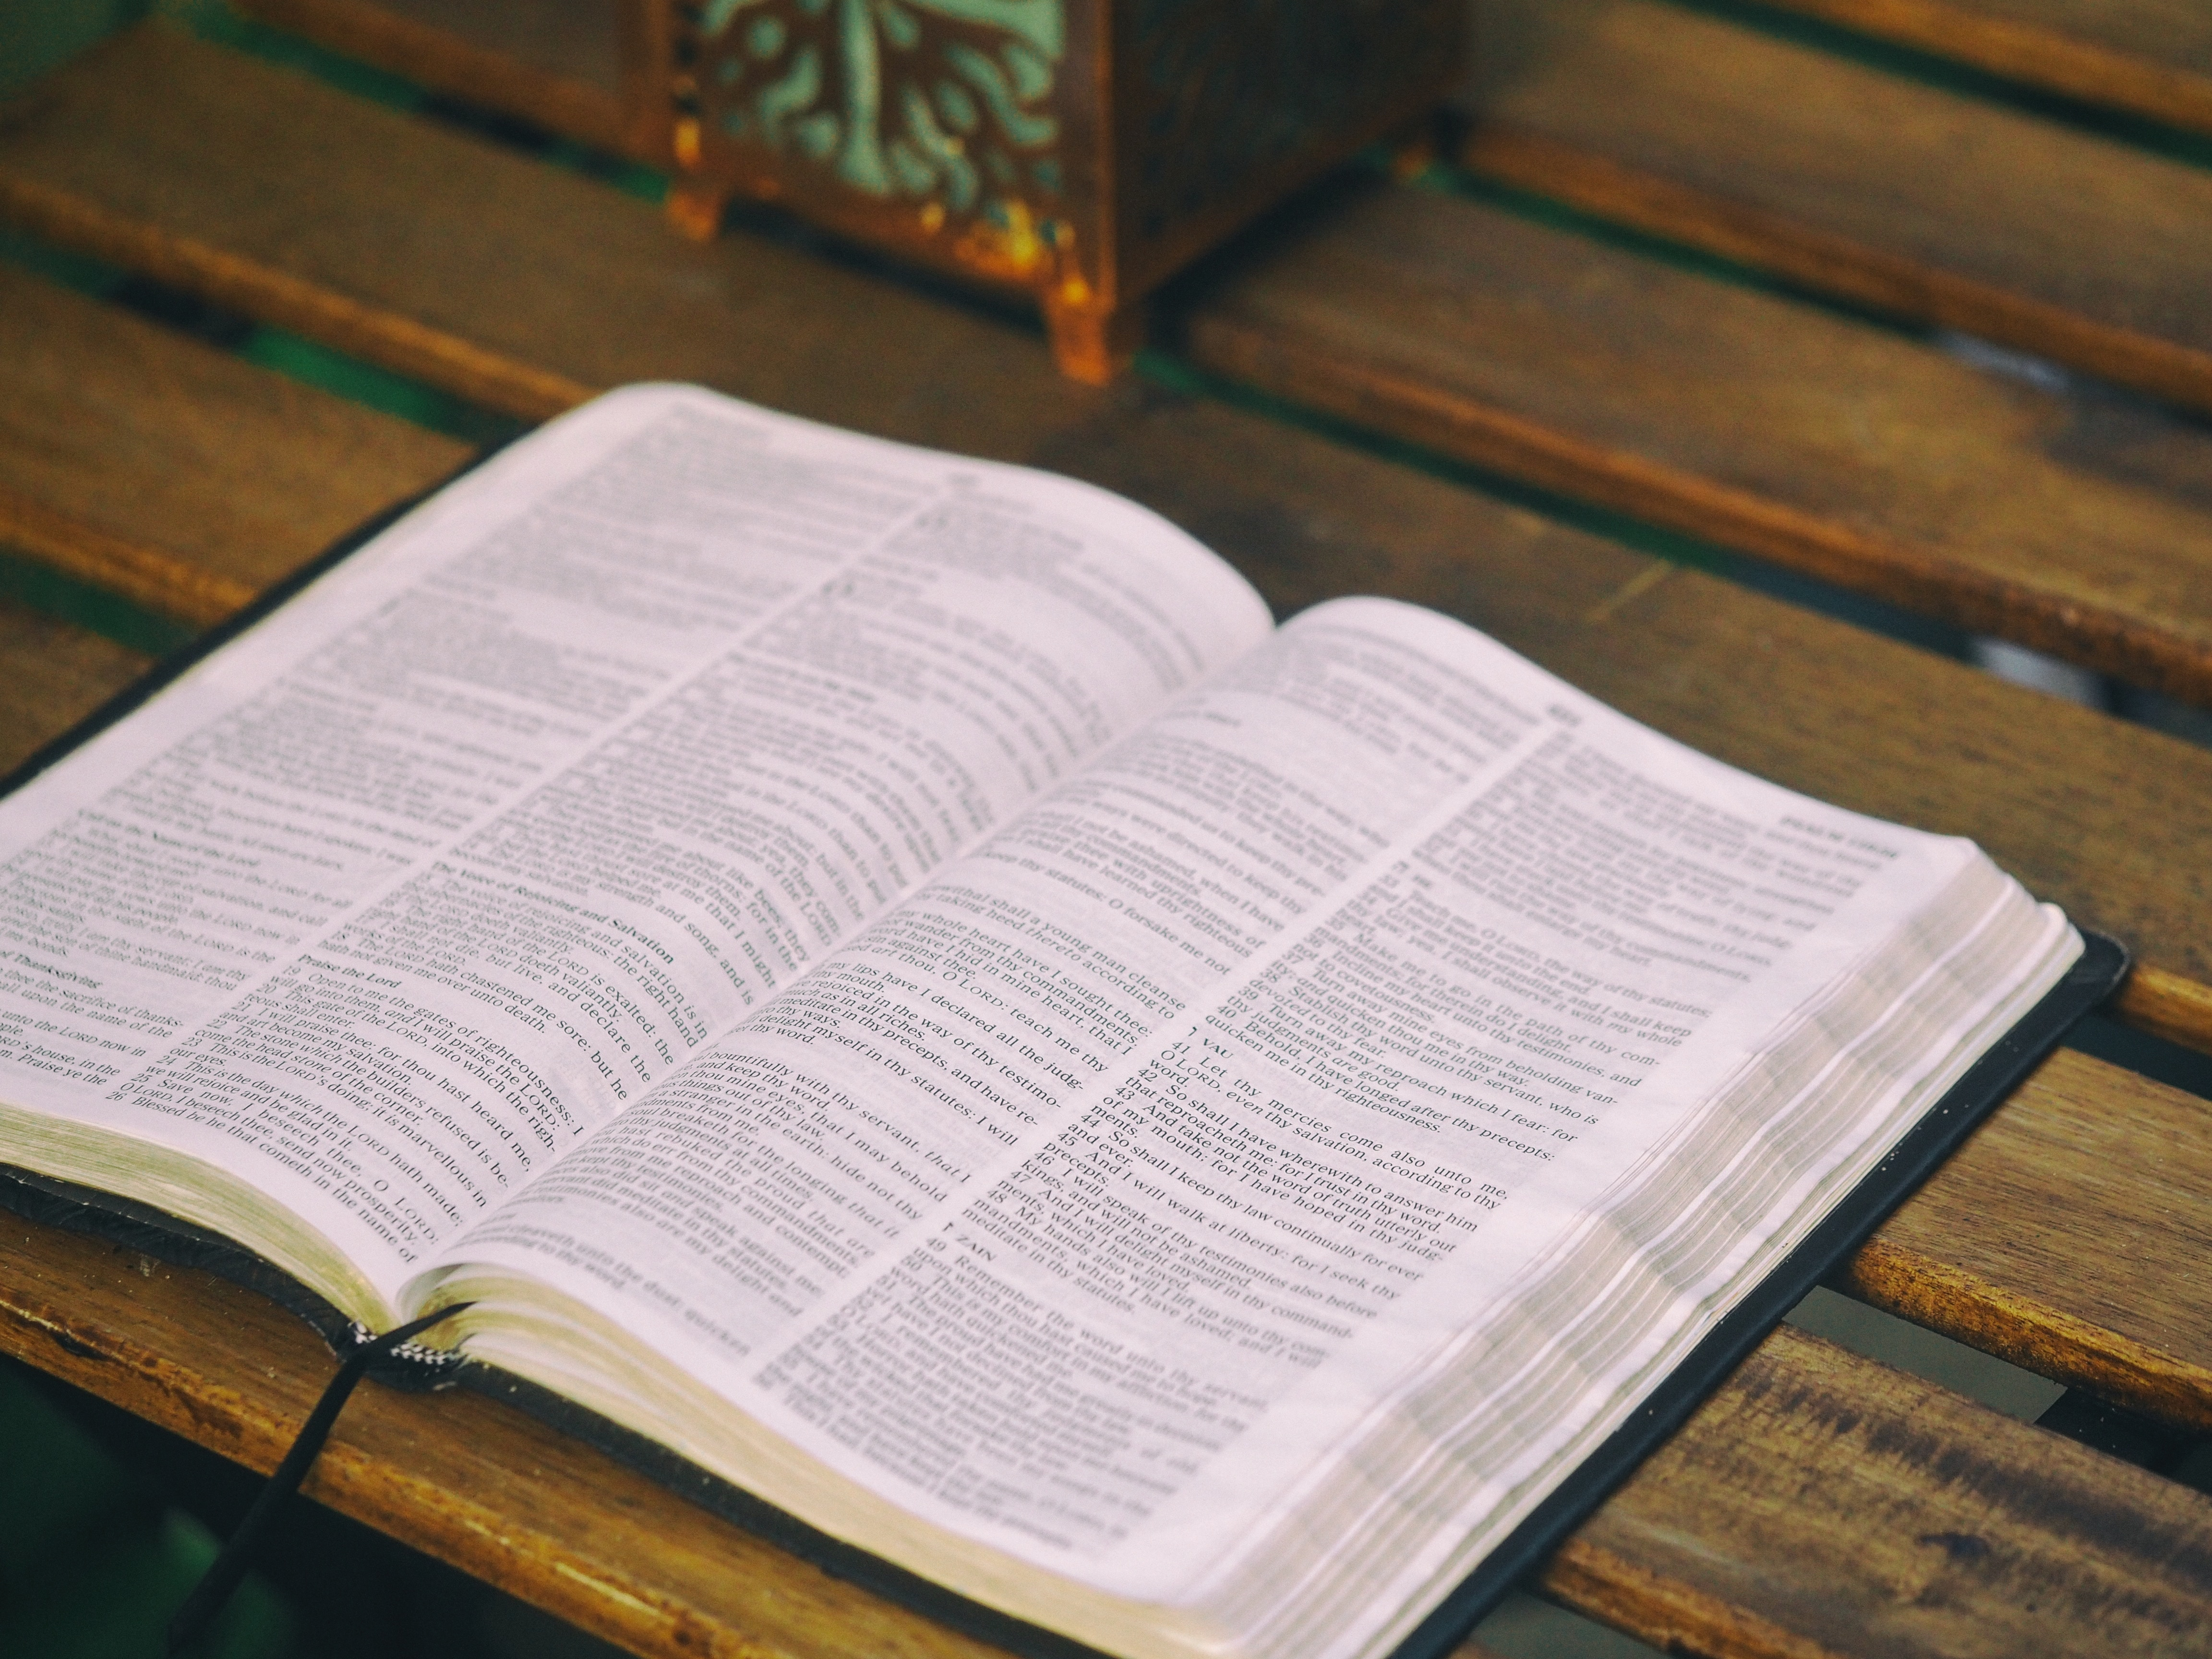book: (3, 352, 2153, 1659)
